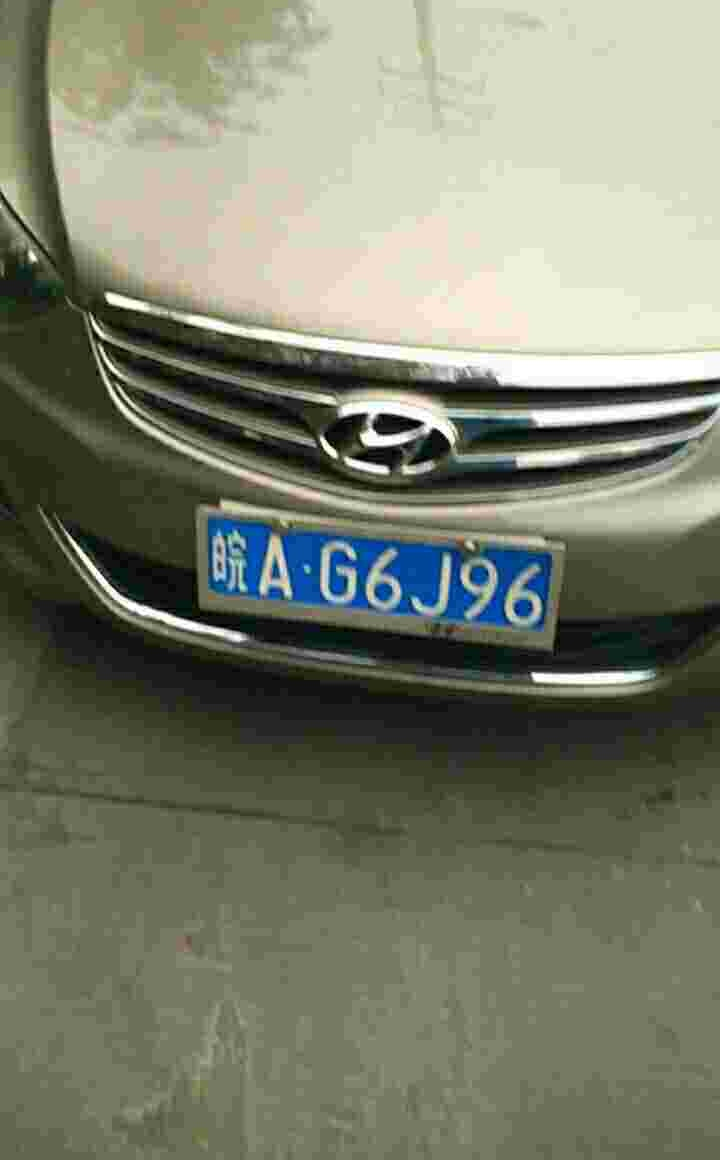license_plate: (208, 521, 538, 629)
